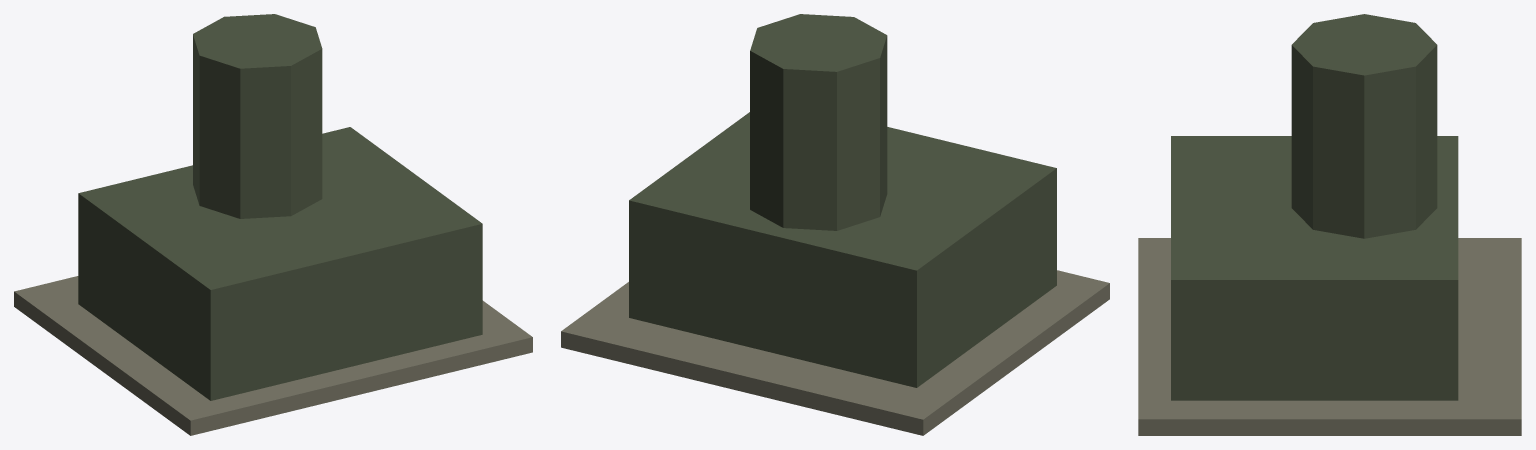
The model's file is Bastion_PowerPlant_LOD1.obj.
3 renders of one model, left to right at view 1: azimuth 30°, elevation 25°; view 2: azimuth 150°, elevation 25°; view 3: azimuth 270°, elevation 25°, orthographic. The views are drawn at different scales.
Visible parts, largest first — view 1: Bastion_PowerPlant_LOD1; view 2: Bastion_PowerPlant_LOD1; view 3: Bastion_PowerPlant_LOD1.
Part boxes in pixels (x1,y1,x2,y2): Bastion_PowerPlant_LOD1: [14, 14, 532, 435]; Bastion_PowerPlant_LOD1: [561, 14, 1109, 435]; Bastion_PowerPlant_LOD1: [1138, 14, 1521, 435].
Bounding box in the file's own units: 5.6 × 4.32 × 5.
Materials: 1 (1 with a texture image).
